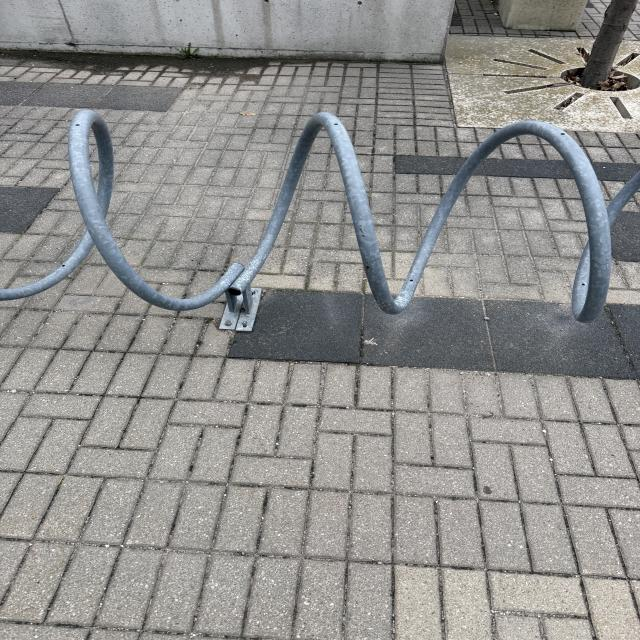Bicycle Rack: (0, 112, 640, 336)
